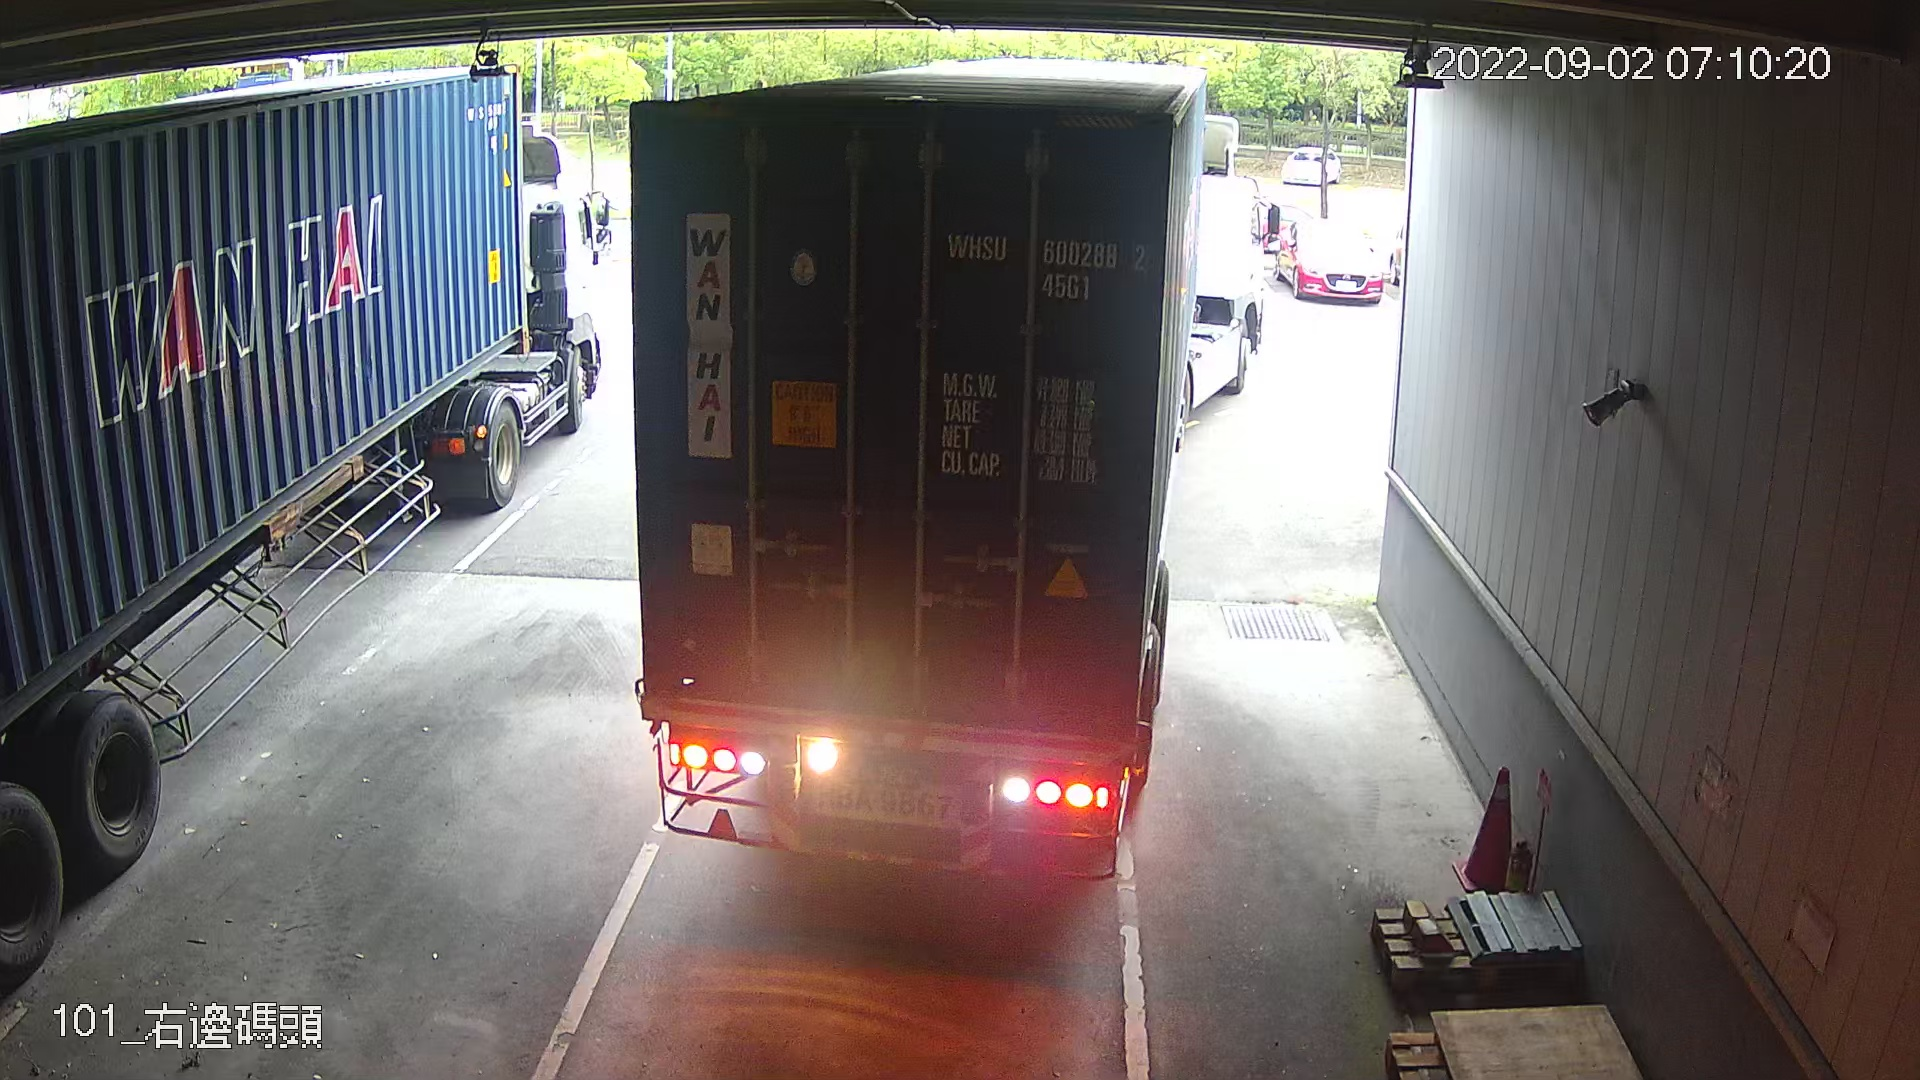container: (938, 219, 1159, 311)
